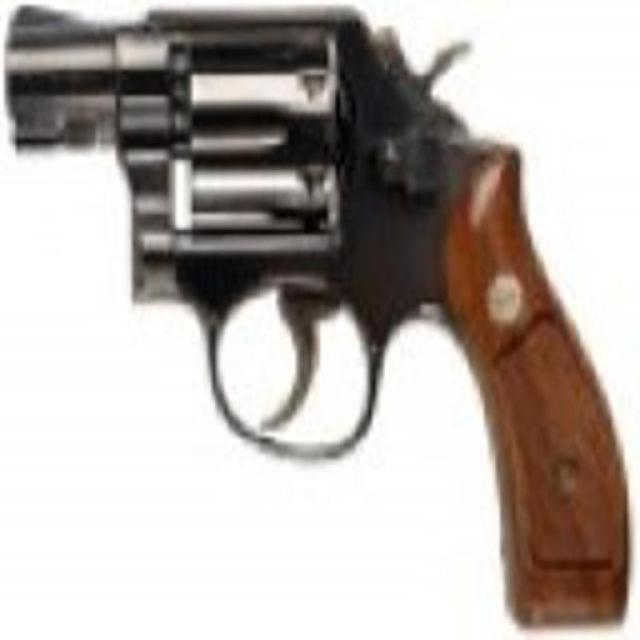pistol: (4, 5, 620, 624)
